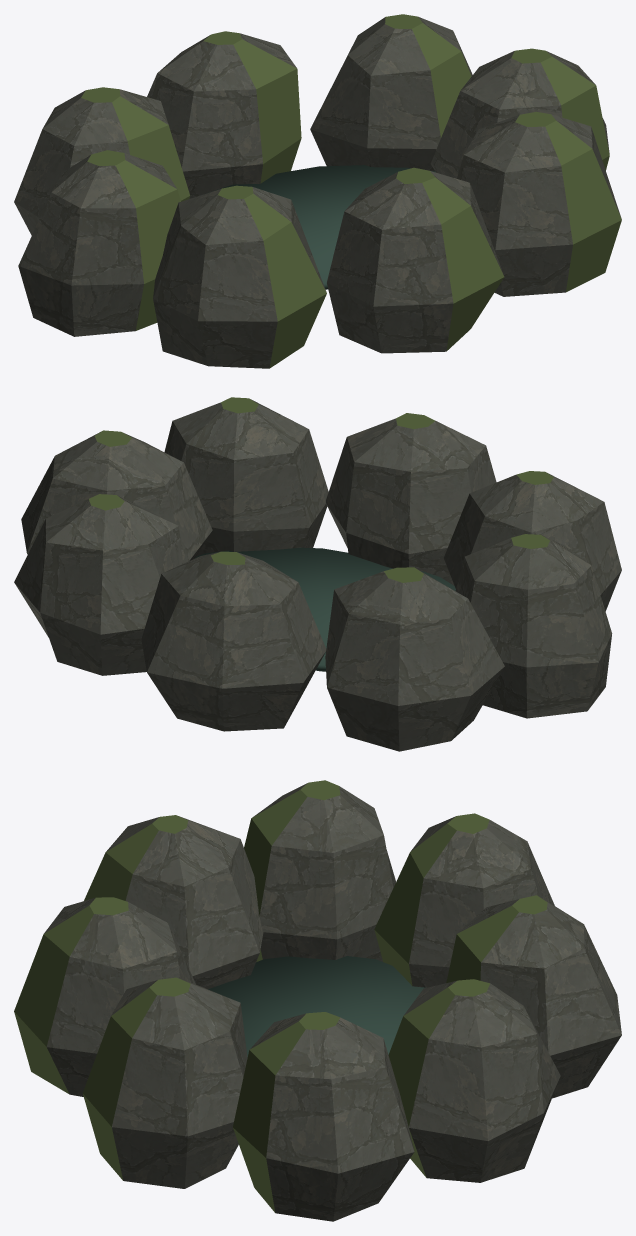
Rendered from source_4.glb.
3 renders of one model, top to bottom at view 1: azimuth 30°, elevation 25°; view 2: azimuth 150°, elevation 25°; view 3: azimuth 270°, elevation 25°, orthographic. The views are drawn at different scales.
Visible parts, largest first — view 1: Weathered faceted boulder; view 2: Weathered faceted boulder; view 3: Weathered faceted boulder.
Part boxes in pixels (x1=…): Weathered faceted boulder: x1=14, y1=14, x2=621, y2=368; Weathered faceted boulder: x1=14, y1=397, x2=621, y2=751; Weathered faceted boulder: x1=14, y1=780, x2=621, y2=1221.
Bounding box in the file's own units: 3.59 × 0.875 × 2.88.
Materials: 3 (1 with a texture image).
